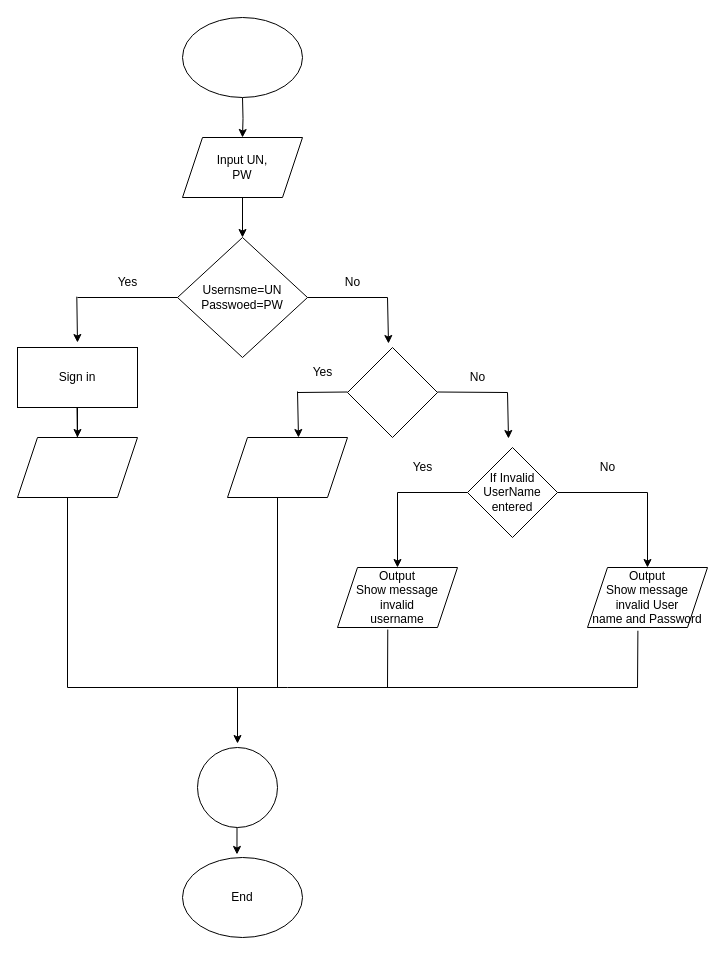
This 725x955 diagram has some shape labels left out. Each missing label, with the centre of its shape:
If Invalid password entered: (392,392)
Output Show message invalid Password: (287,467)
Output Show message sign in successful: (77,467)
Start: (242,57)
